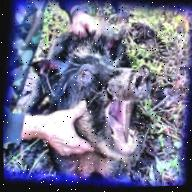boar: (12, 9, 160, 187)
